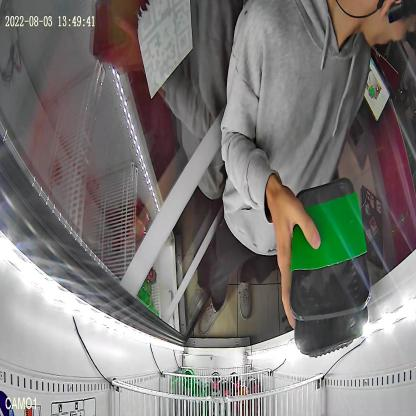green: (288, 176, 372, 322)
undefined: (294, 306, 370, 359)
